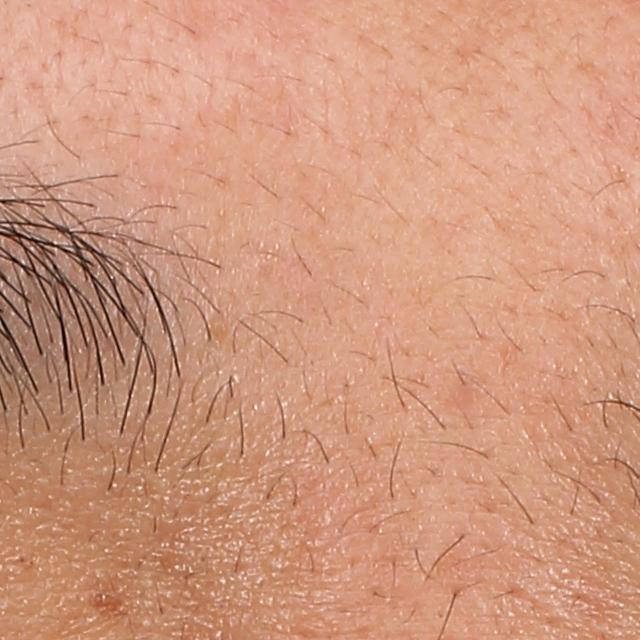melasma: (78, 575, 132, 626)
